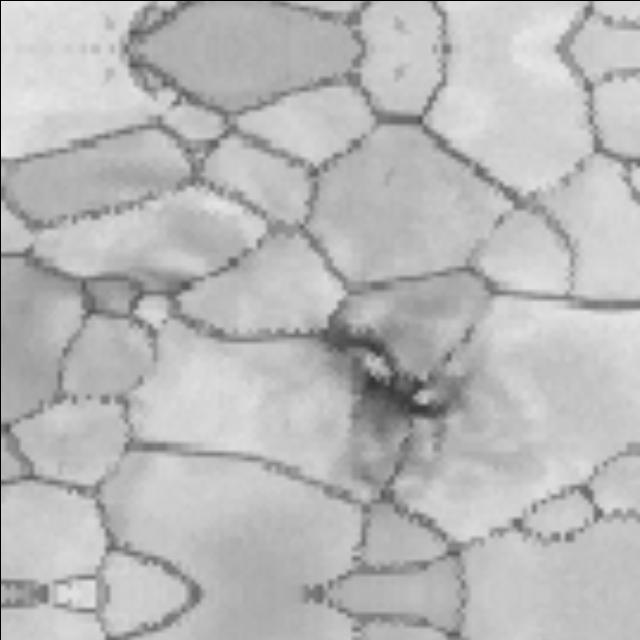good_void: (268, 287, 531, 490)
